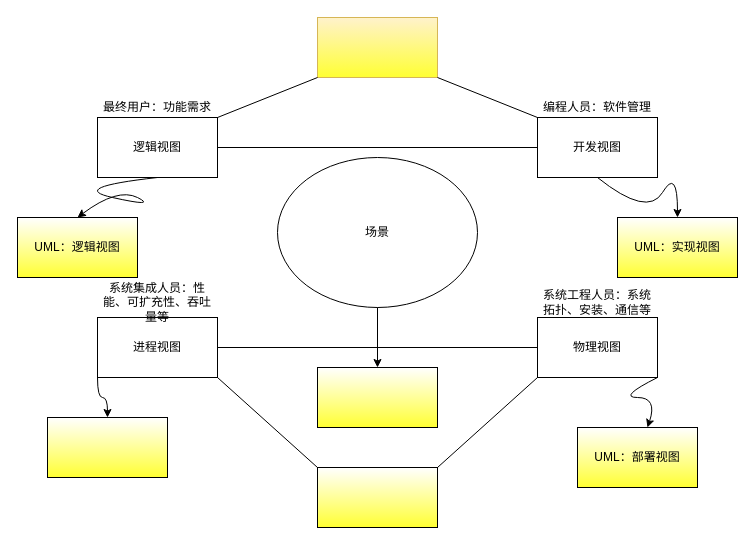
Some shapes in this 755 by 545 pixel diagram are drawn without their labels. Here are the shapes that lost their labels. From the top down, the centre of each, then its label:
At point 377,47: "静态架构".
At point 377,397: "UML:用例视图".
At point 107,447: "UML：进程视图".
At point 377,497: "动态结构".
